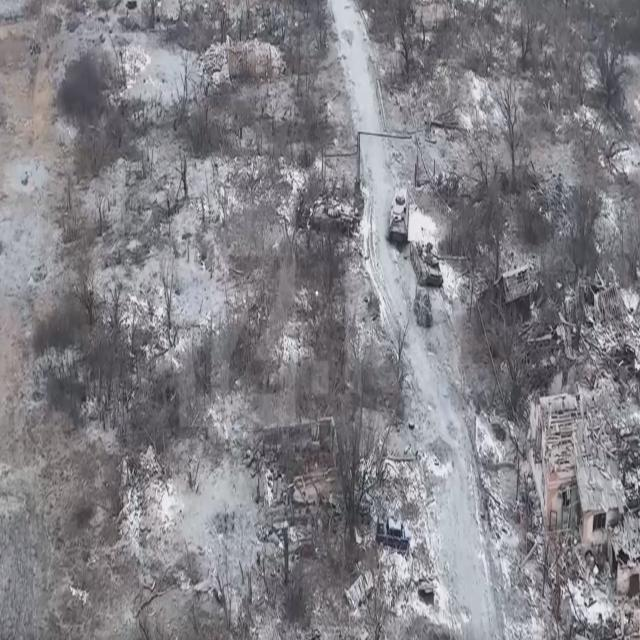APC: (389, 185, 412, 247)
Destroyed: (415, 289, 434, 331)
MBT: (409, 239, 471, 290), (312, 193, 365, 239)
Vehicle: (376, 515, 414, 552)
